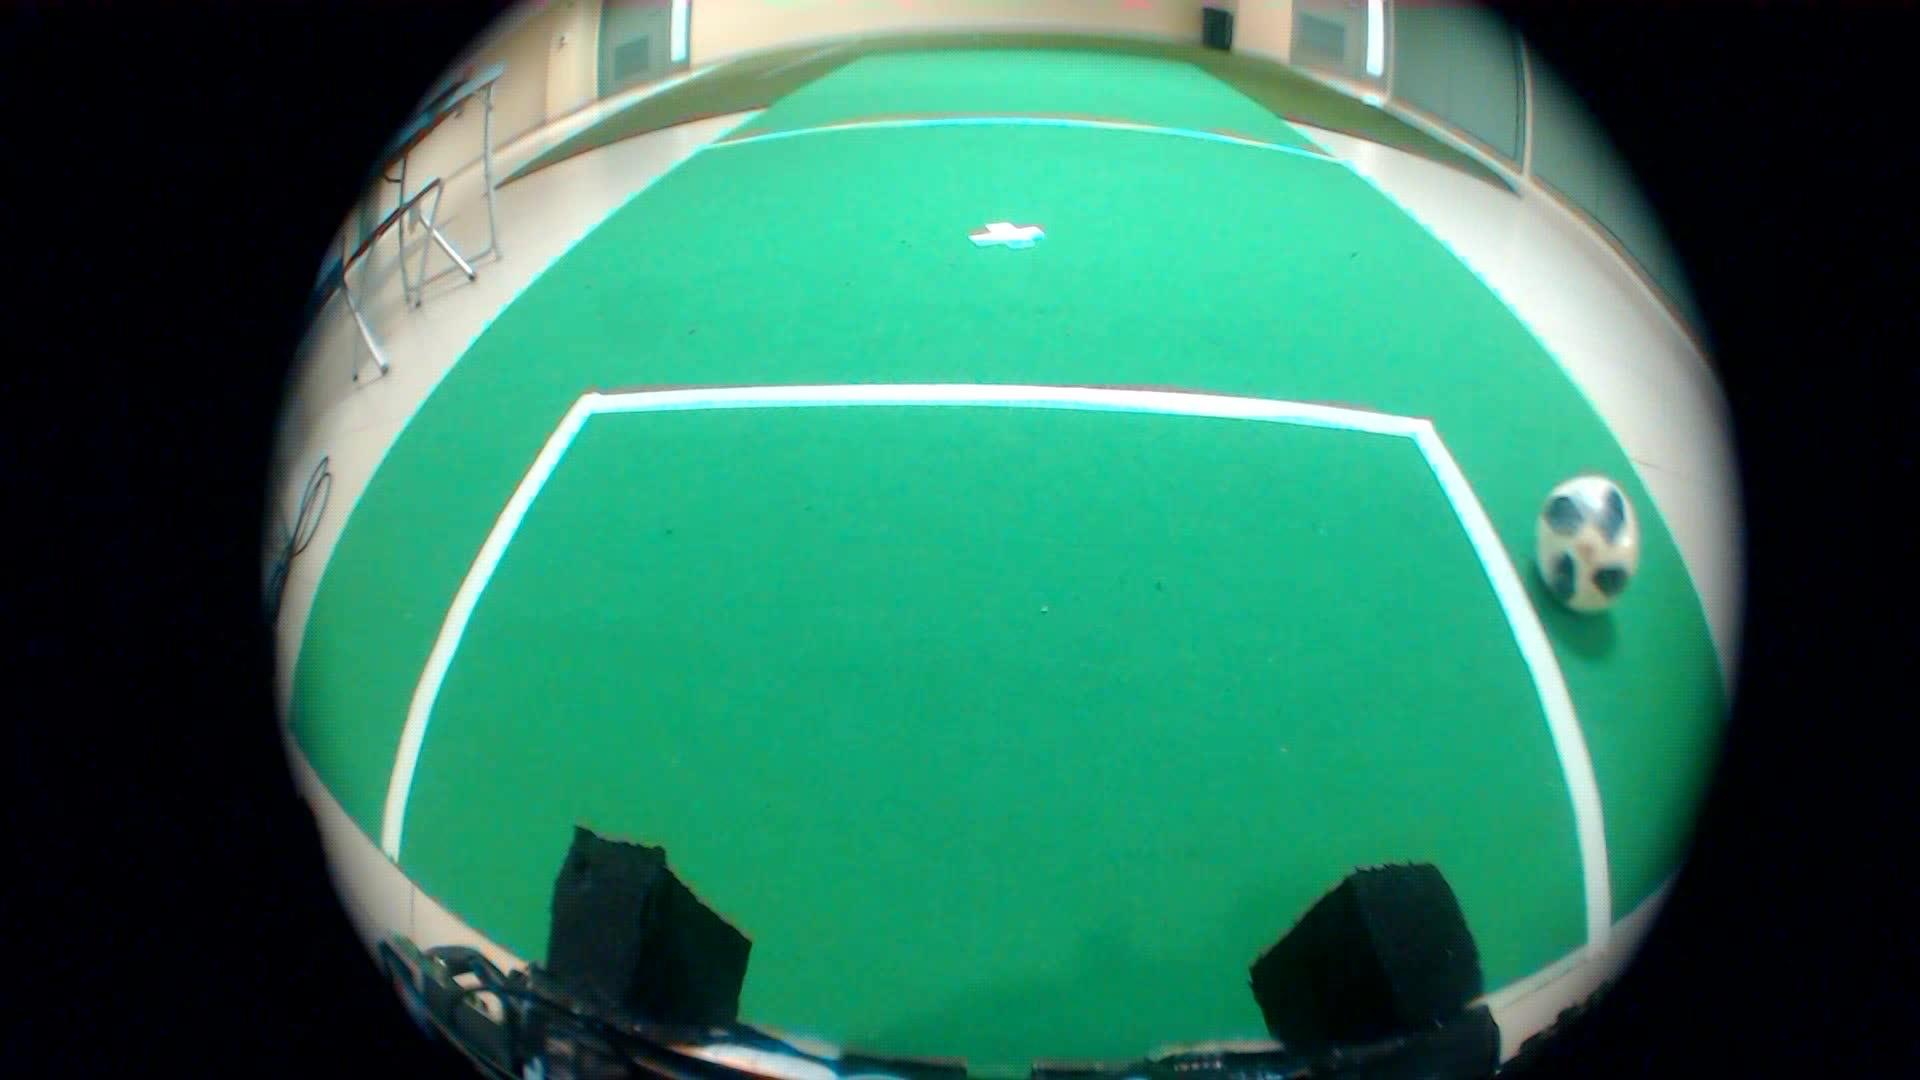ball: (1520, 459, 1669, 621)
